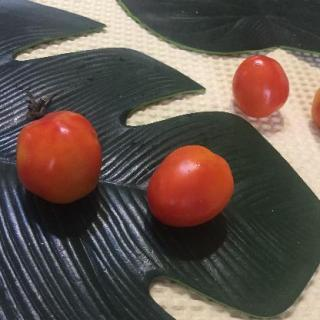Tomat: (10, 88, 110, 213), (140, 130, 238, 241), (226, 49, 293, 122)
